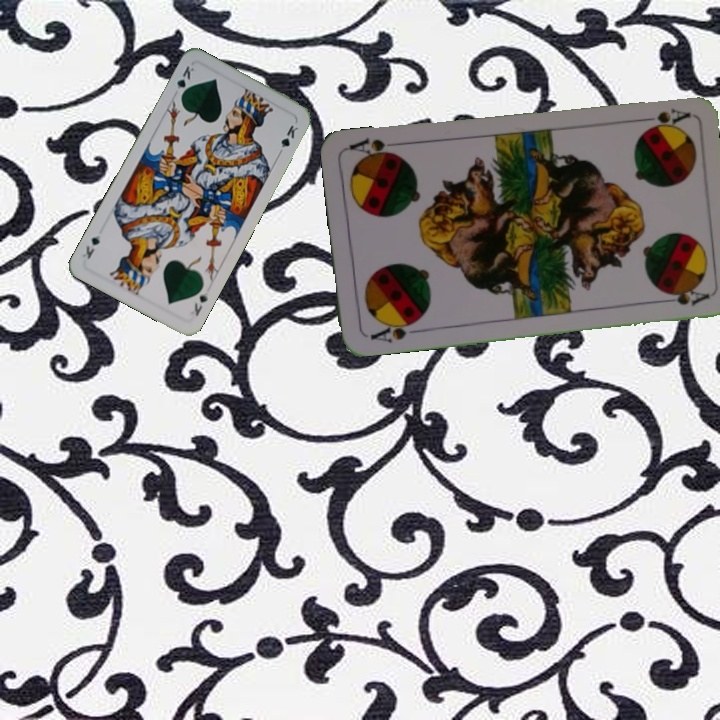GK: (173, 62, 197, 101), (186, 288, 211, 319)
SA: (366, 315, 423, 346), (633, 105, 692, 132)
